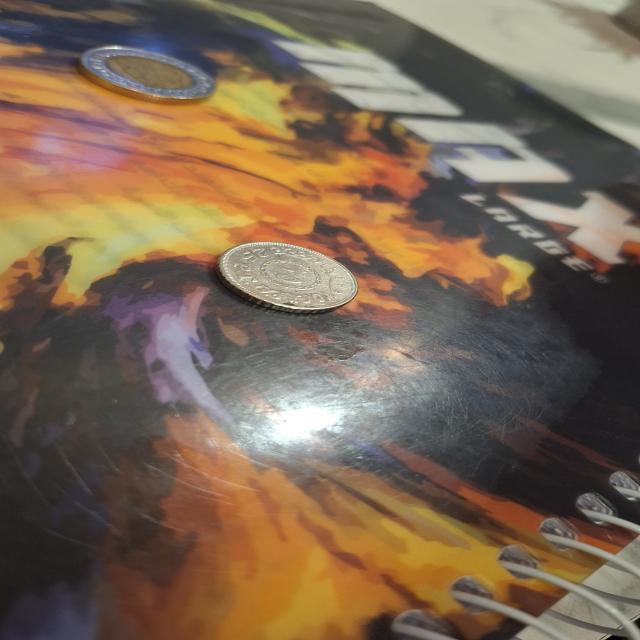One Pound: (59, 36, 234, 107)
quarter pound: (201, 238, 365, 316)
